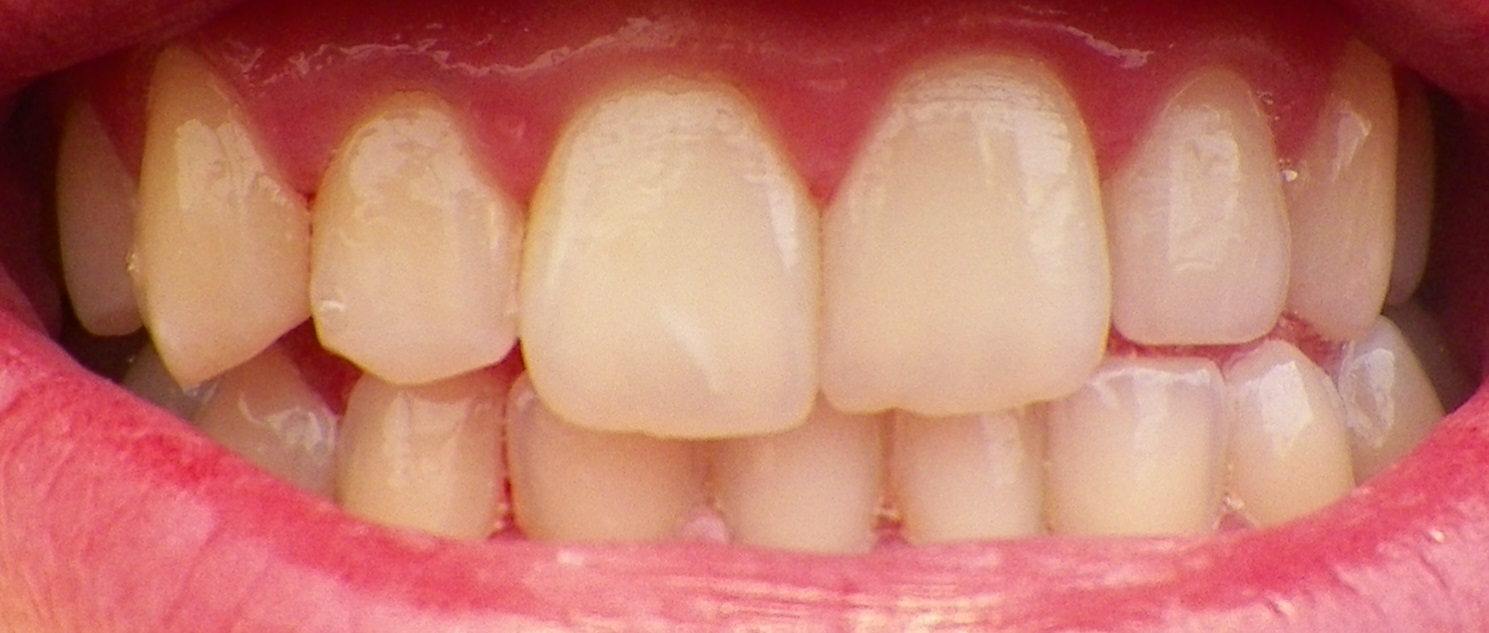boca: (50, 44, 1444, 562)
